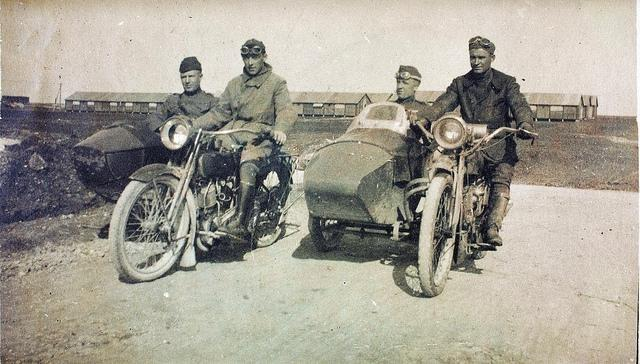motorcycle: (110, 113, 271, 281), (402, 116, 542, 296)
